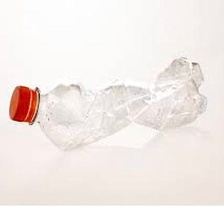bottle: (8, 52, 212, 154)
